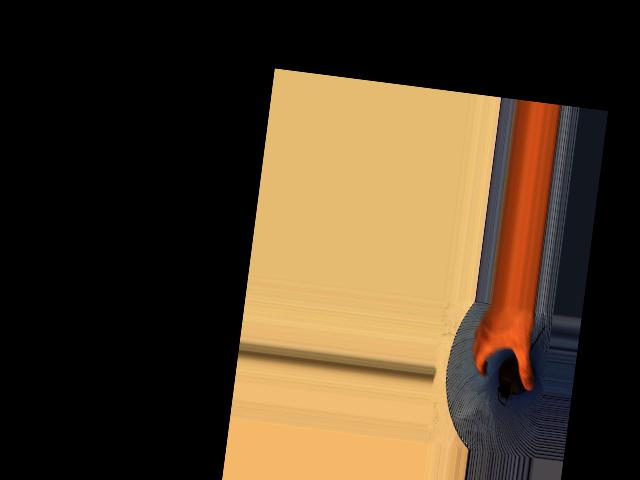beet: (494, 321, 545, 409)
